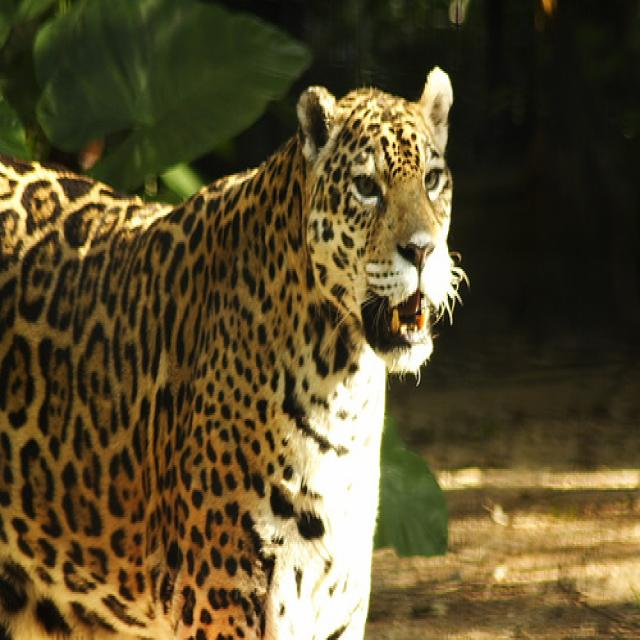Leopard: (0, 61, 481, 636)
